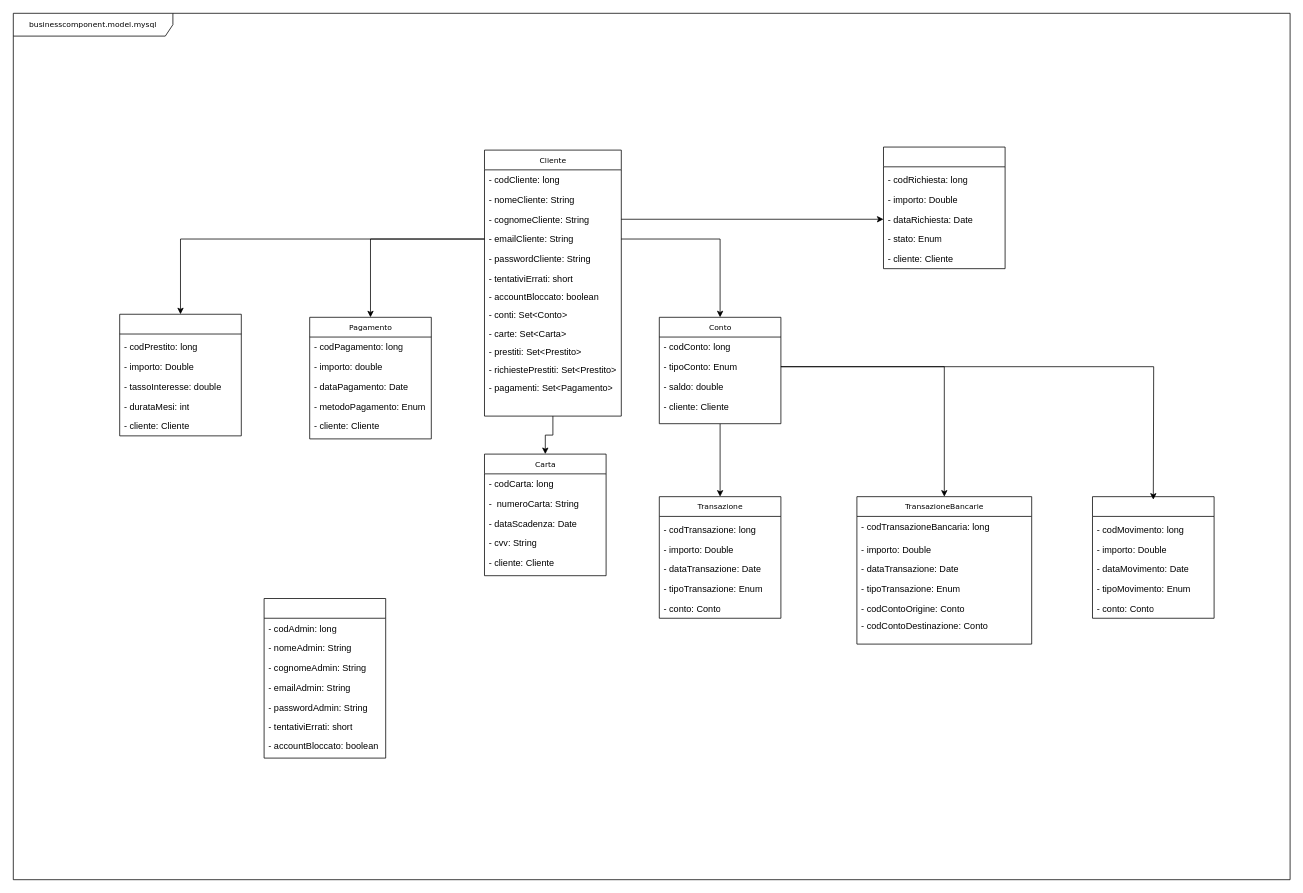
Image size: 1303x893. Some labels were removed from this diagram. The box of each missing label's shape, as (x1, y1, x2, y2) in pixels:
Amministratore: (263, 598, 386, 758)
MovimentoConto: (1092, 496, 1214, 618)
Prestiti: (119, 314, 241, 436)
RichiestaPrestito: (883, 146, 1005, 269)
